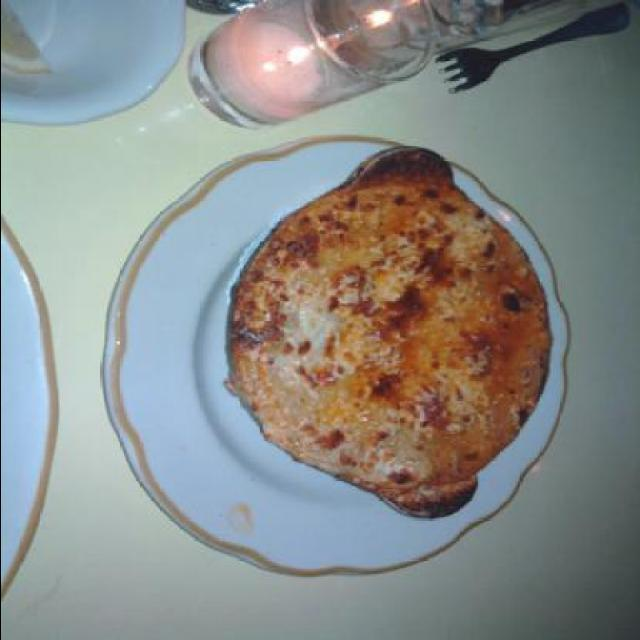Lasagna: (233, 142, 565, 540)
